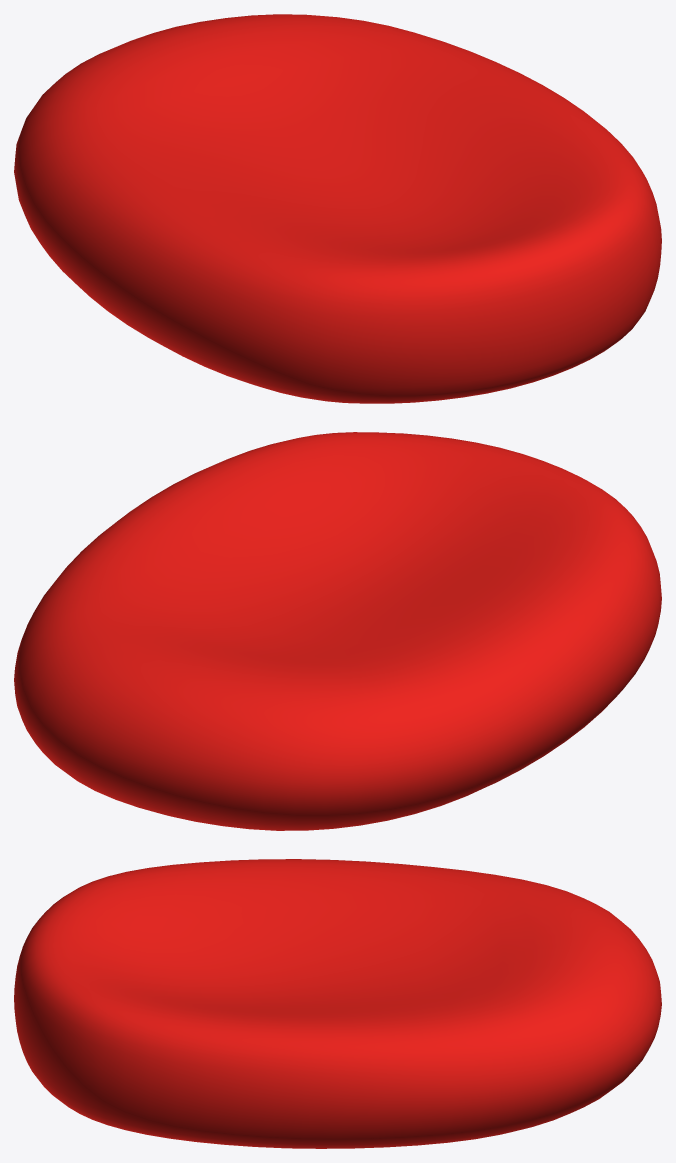
The model's file is Yatsı Alyuvar .fbx.
3 renders of one model, top to bottom at view 1: azimuth 30°, elevation 25°; view 2: azimuth 150°, elevation 25°; view 3: azimuth 270°, elevation 25°, orthographic. The views are drawn at different scales.
Visible parts, largest first — view 1: Cube; view 2: Cube; view 3: Cube.
Boxes of the visible parts, x1,y1,x2,y2 form: Cube: (14,14,661,403); Cube: (14,432,661,830); Cube: (14,859,661,1148).
Bounding box in the file's own units: 171 × 46.06 × 219.
